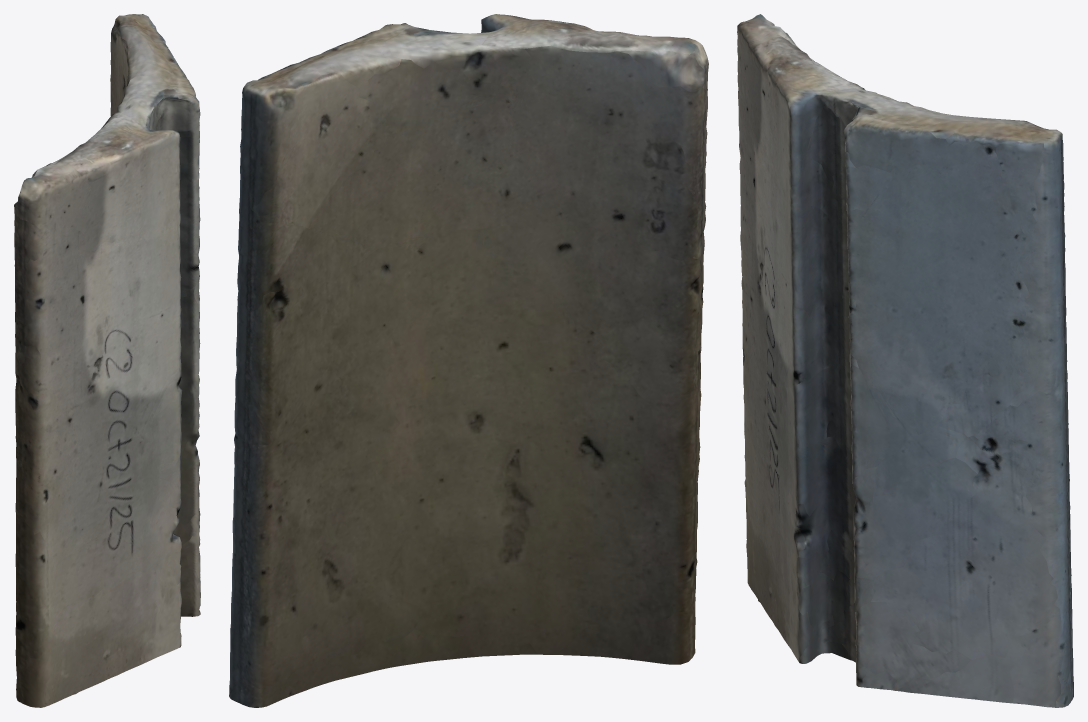
3 views of the same model, side by side, from view 1: azimuth 30°, elevation 25°; view 2: azimuth 150°, elevation 25°; view 3: azimuth 270°, elevation 25° (orthographic). The views are drawn at different scales.
Visible parts, largest first — view 1: Node; view 2: Node; view 3: Node.
Boxes of the visible parts, x1,y1,x2,y2 form: Node: [14, 14, 200, 707]; Node: [229, 14, 708, 707]; Node: [737, 14, 1073, 707].
Size of the model in its own units: 0.3129 by 0.5913 by 0.3158.
1 material, 1 textured.
